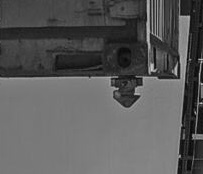twist_lock_2: (105, 71, 146, 111)
